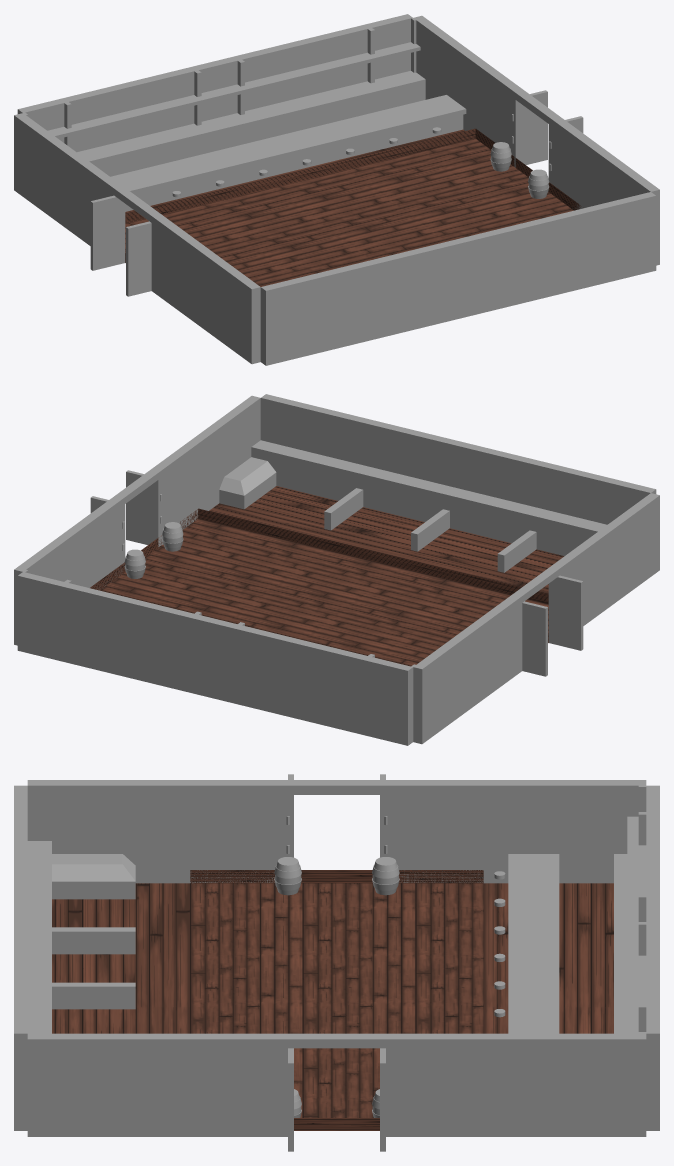
File: Bar_Greybox_FBX.fbx
The picture shows the model from 3 angles, top to bottom: view 1: azimuth 30°, elevation 25°; view 2: azimuth 150°, elevation 25°; view 3: azimuth 270°, elevation 25°; orthographic projection. The views are drawn at different scales.
Parts seen in each view (by area): view 1: pPlane51; view 2: pPlane51; view 3: pPlane51.
Boxes of the visible parts, bbox=[...] form: pPlane51: bbox=[14, 14, 659, 365]; pPlane51: bbox=[14, 394, 659, 745]; pPlane51: bbox=[14, 774, 659, 1151].
Size of the model in its own units: 2100 by 331 by 1983.
